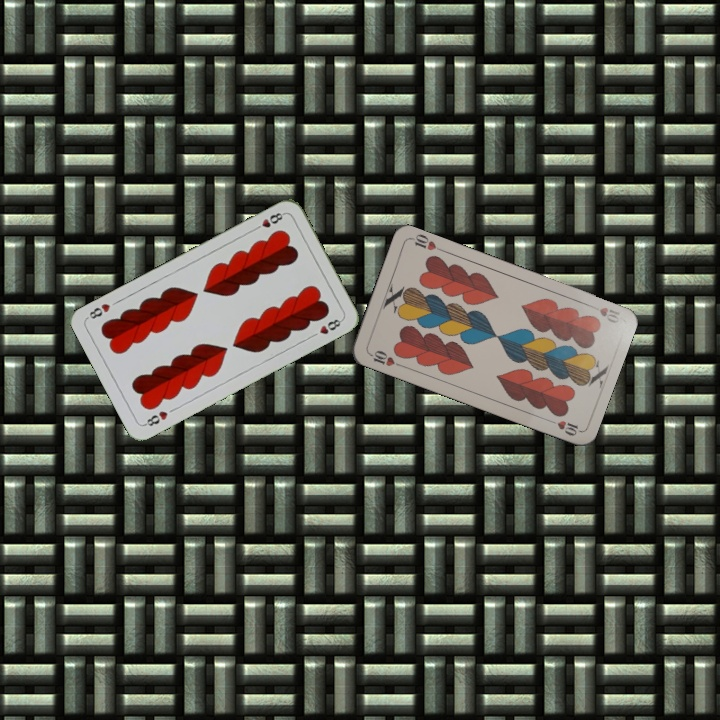H10: (584, 300, 622, 326), (365, 346, 404, 369)
H8: (250, 208, 287, 233), (140, 407, 170, 429)
